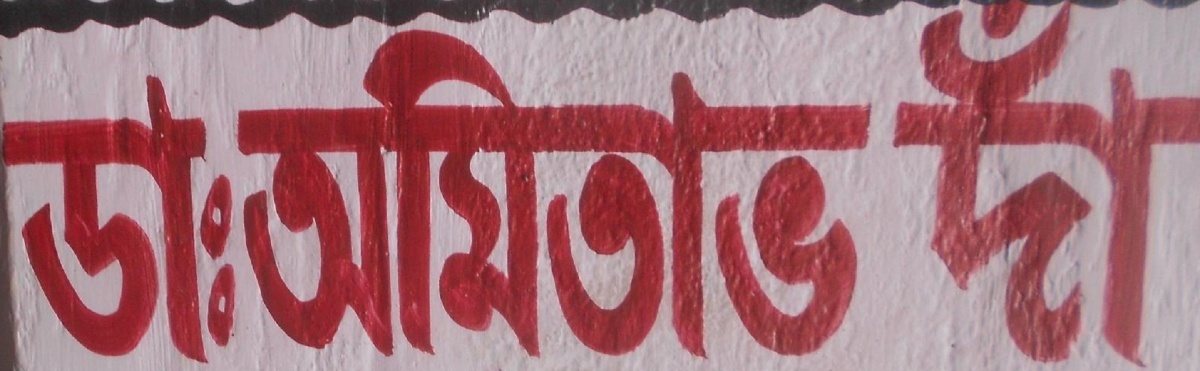text: (897, 6, 912, 369), (913, 6, 928, 369), (929, 6, 944, 369), (945, 6, 960, 369), (961, 6, 976, 369), (977, 6, 992, 369), (993, 6, 1008, 369), (1009, 6, 1024, 369), (1025, 6, 1040, 369), (1041, 6, 1056, 369), (1057, 6, 1072, 369), (1073, 6, 1088, 369), (1089, 6, 1104, 369), (1105, 6, 1120, 369), (1121, 6, 1136, 369), (1137, 6, 1152, 369), (1153, 6, 1168, 369), (1169, 6, 1184, 369), (865, 29, 881, 363), (241, 29, 256, 363), (257, 29, 272, 363), (273, 29, 288, 363), (289, 29, 304, 363), (305, 29, 320, 363), (321, 29, 336, 363), (337, 29, 352, 363), (353, 29, 368, 363), (369, 29, 384, 363), (385, 29, 400, 363), (401, 29, 416, 363), (417, 29, 432, 363), (433, 29, 448, 363), (449, 29, 464, 363), (465, 29, 480, 363), (481, 29, 496, 363), (497, 29, 512, 363), (513, 29, 528, 363), (529, 29, 544, 363), (545, 29, 560, 363), (561, 29, 576, 363), (577, 29, 592, 363), (593, 29, 608, 363), (609, 29, 624, 363), (625, 29, 640, 363), (641, 29, 656, 363), (657, 29, 672, 363), (673, 29, 688, 363), (689, 29, 704, 363), (705, 29, 720, 363), (721, 29, 736, 363), (737, 29, 752, 363), (753, 29, 768, 363), (769, 29, 784, 363), (785, 29, 800, 363), (801, 29, 816, 363), (817, 29, 832, 363), (833, 29, 848, 363), (849, 29, 864, 363), (1185, 6, 1197, 369), (17, 74, 32, 362), (33, 74, 48, 362), (49, 74, 64, 362), (65, 74, 80, 362), (81, 74, 96, 362), (97, 74, 112, 362), (113, 74, 128, 362), (129, 74, 144, 362), (145, 74, 160, 362), (161, 74, 176, 362), (177, 74, 192, 362), (193, 74, 208, 362), (209, 74, 224, 362), (225, 74, 240, 362), (2, 74, 16, 362), (892, 6, 896, 369), (238, 29, 240, 363)
